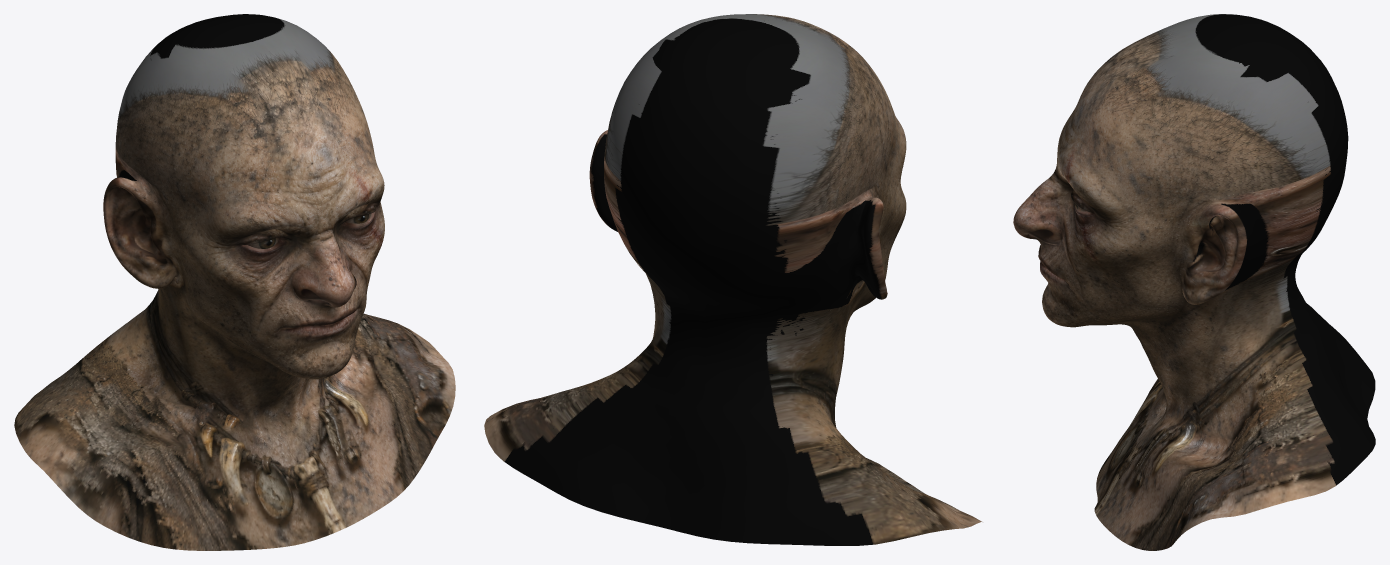
File: 01a0ab81-4cff-7871-bac7-adfa28d57d0b.glb
3 renders of one model, left to right at view 1: azimuth 30°, elevation 25°; view 2: azimuth 150°, elevation 25°; view 3: azimuth 270°, elevation 25°, orthographic. The views are drawn at different scales.
Visible parts, largest first — view 1: mesh; view 2: mesh; view 3: mesh.
Part boxes in pixels (bbox=[...]): mesh: bbox=[14, 14, 455, 550]; mesh: bbox=[484, 14, 981, 545]; mesh: bbox=[1013, 14, 1375, 550].
Bounding box in the file's own units: 3.1 × 3.38 × 2.35.
4 materials, 4 textured.
